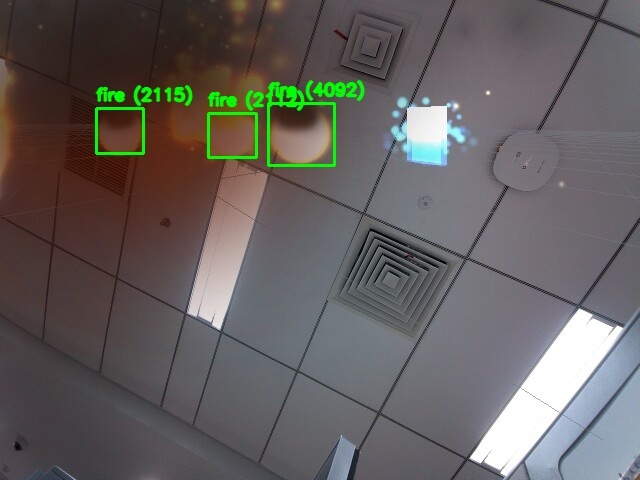fire: (268, 103, 334, 165), (96, 108, 143, 153), (208, 113, 256, 157)
